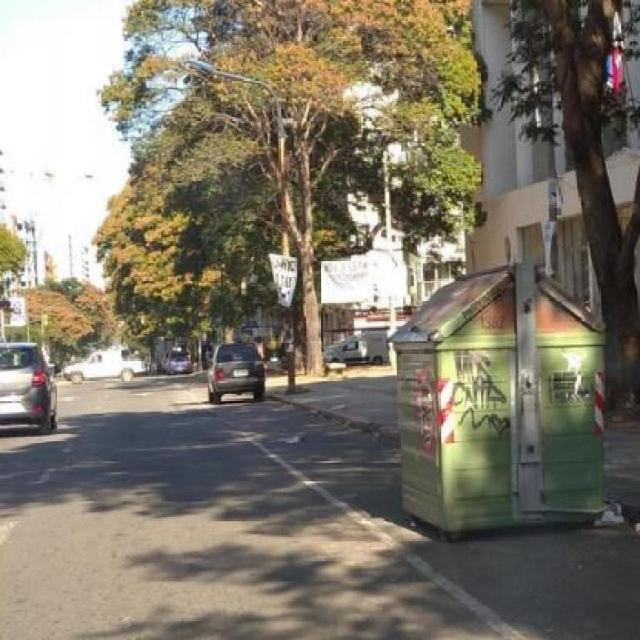garbage: (586, 492, 633, 534), (274, 426, 306, 448)
